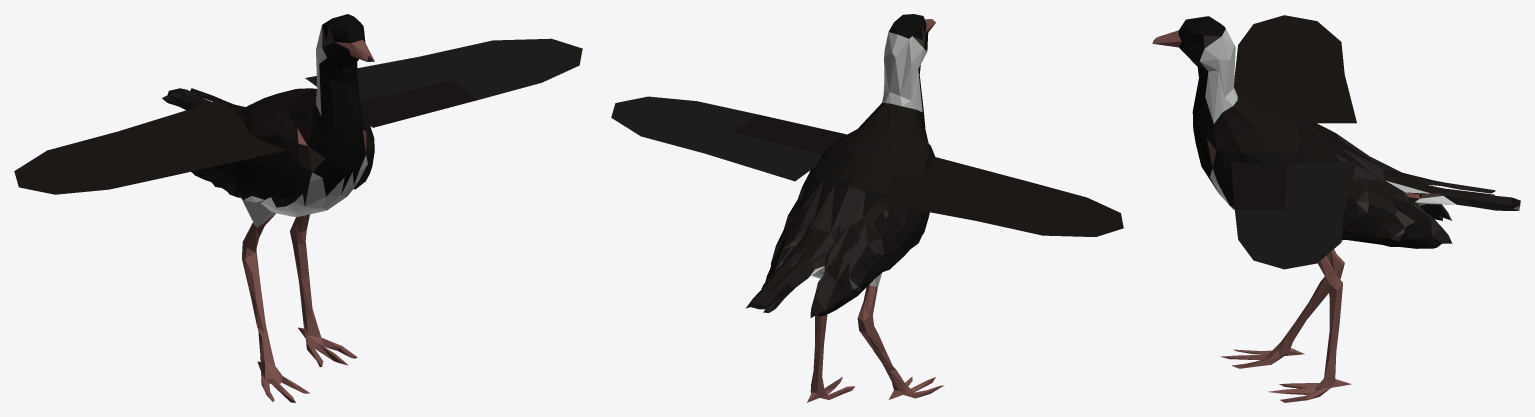
The model's file is vanellus_armatus.glb.
3 views of the same model, side by side, from view 1: azimuth 30°, elevation 25°; view 2: azimuth 150°, elevation 25°; view 3: azimuth 270°, elevation 25° (orthographic). The views are drawn at different scales.
Visible parts, largest first — view 1: lod0; view 2: lod0; view 3: lod0.
Boxes of the visible parts, x1=… form: lod0: x1=14, y1=14, x2=582, y2=402; lod0: x1=611, y1=14, x2=1123, y2=402; lod0: x1=1152, y1=15, x2=1520, y2=402.
Size of what is drawn, in the model's own units: 0.4845 by 0.3175 by 0.2953.
